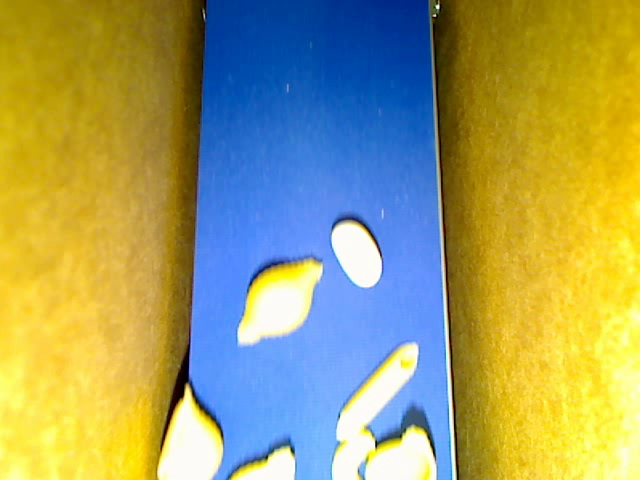elbow: (331, 429, 375, 479)
penne: (335, 341, 419, 441)
shell: (237, 257, 322, 345), (153, 382, 223, 479), (364, 424, 436, 479), (227, 444, 295, 479)
